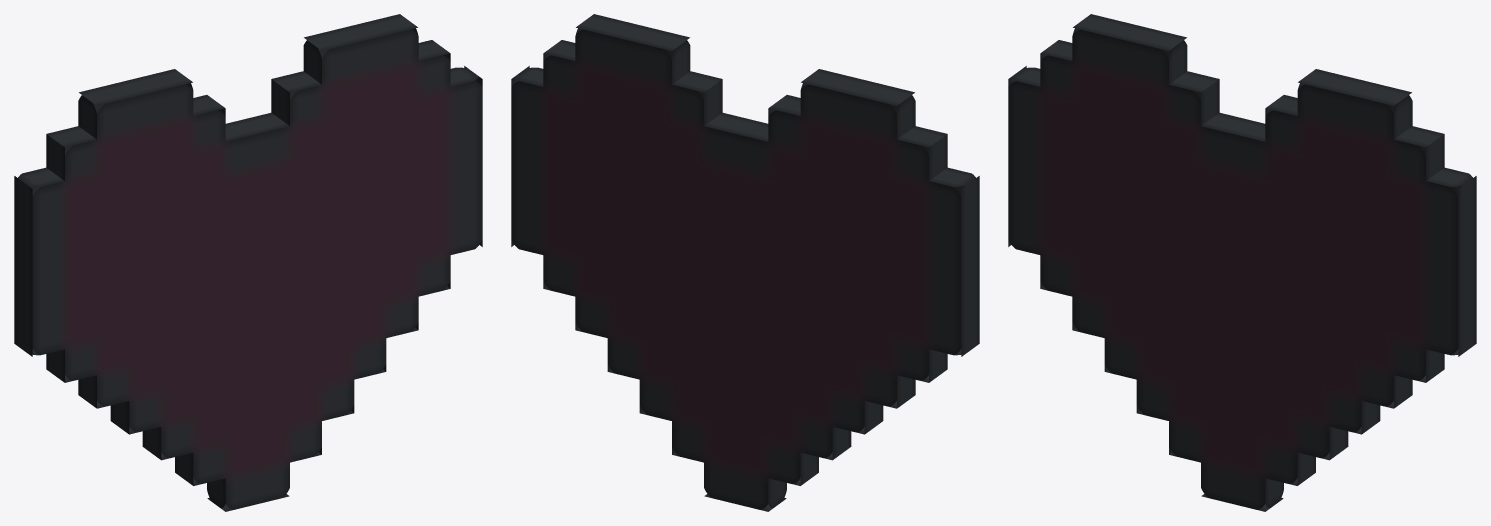
Rendered from LostHeart.fbx.
3 views of the same model, side by side, from view 1: azimuth 30°, elevation 25°; view 2: azimuth 150°, elevation 25°; view 3: azimuth 330°, elevation 25° (orthographic).
Visible parts, largest first — view 1: generated; view 2: generated; view 3: generated.
Part boxes in pixels (x1,y1,x2,y2): generated: (14,14,482,511); generated: (511,14,979,511); generated: (1008,14,1476,511).
Bounding box in the file's own units: 140 × 130 × 10.
